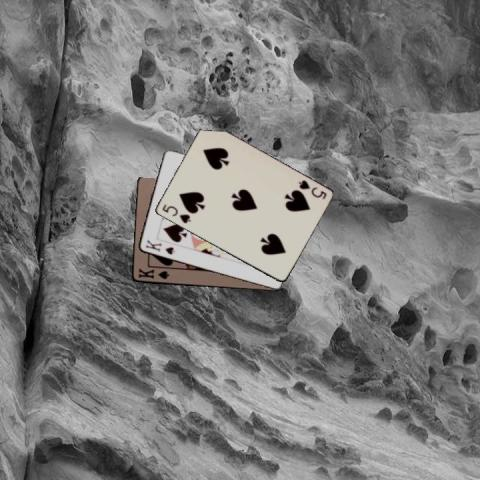5s: (159, 201, 192, 225), (296, 176, 328, 200)
Ks: (143, 237, 176, 256), (135, 265, 170, 281)
